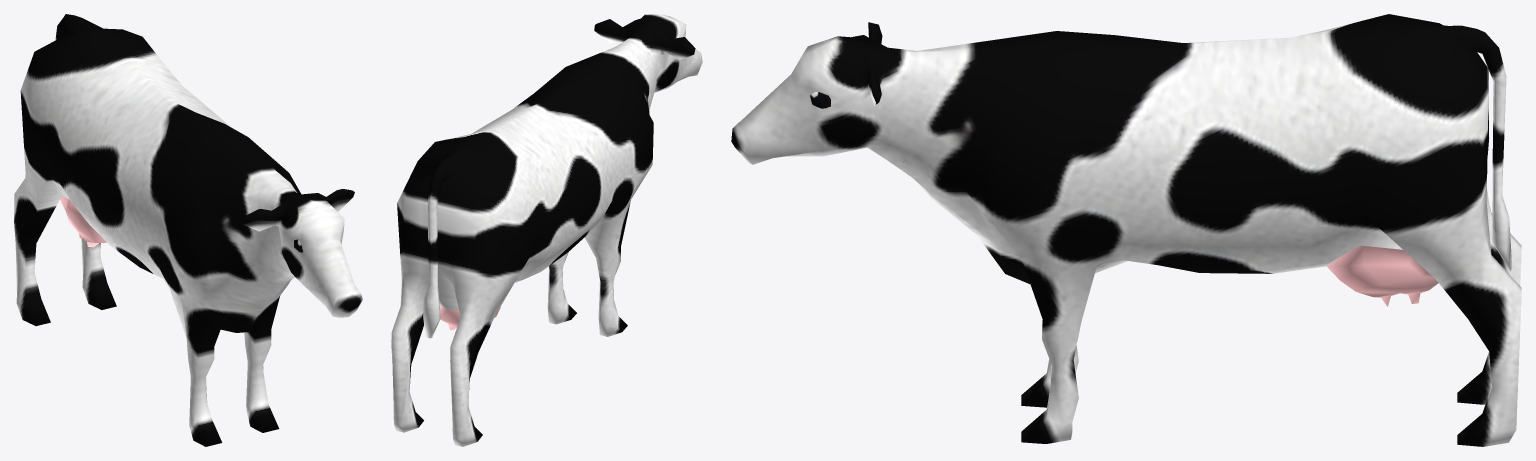
The model's file is Cow02.glb.
3 renders of one model, left to right at view 1: azimuth 30°, elevation 25°; view 2: azimuth 150°, elevation 25°; view 3: azimuth 270°, elevation 25°, orthographic. The views are drawn at different scales.
Parts seen in each view (by area): view 1: Cow02; view 2: Cow02; view 3: Cow02.
Boxes of the visible parts, box(x1,y1,x2,y2) form: Cow02: box(14, 14, 362, 446); Cow02: box(391, 14, 702, 446); Cow02: box(731, 14, 1521, 446).
Size of what is drawn, in the model's own units: 0.6671 by 1.48 by 2.7.
Materials: 1 (1 with a texture image).
